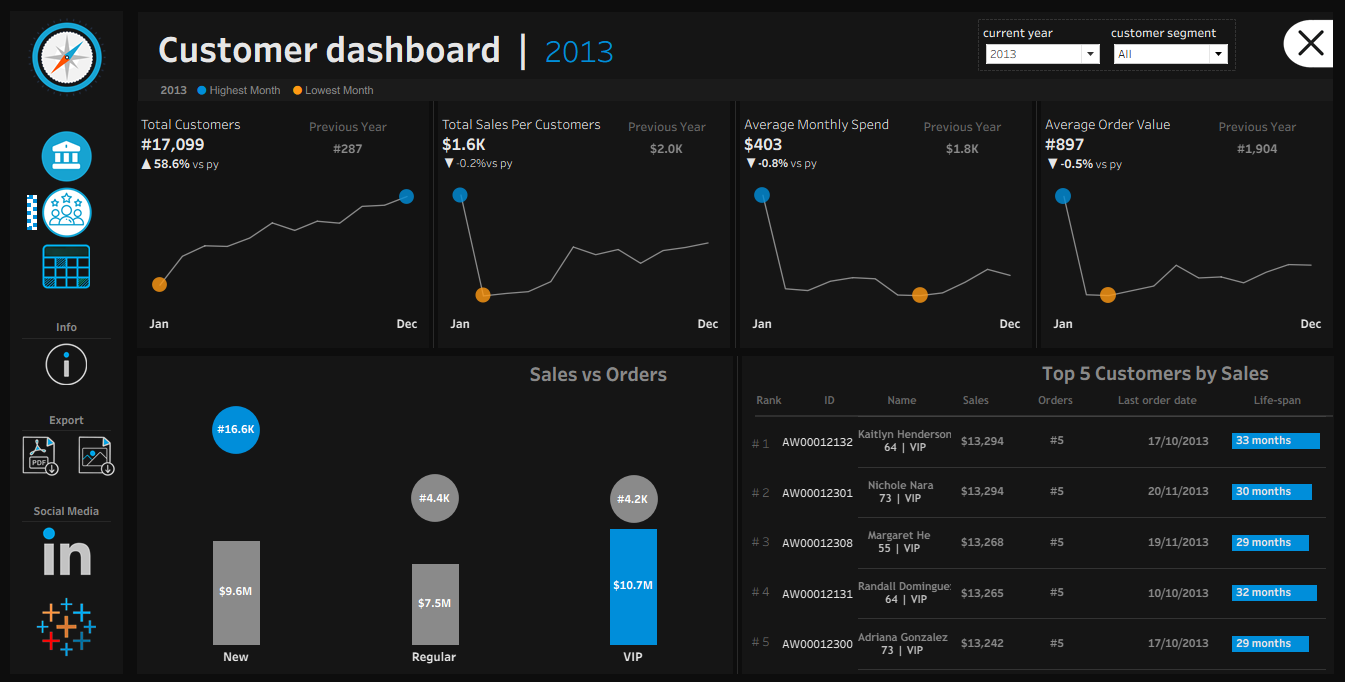

What the dashboard file says about the page in this screenshot:
{"tool":"tableau","page":{"name":"customer summary","canvas":[1350,685],"ordinal":0},"visuals":[{"type":"blank","box":[107,0,1244,157]},{"type":"blank","box":[125,0,1225,13]},{"type":"blank","box":[12,12,113,5]},{"type":"text","box":[125,13,1225,71]},{"type":"image","param":"Image/Icon - Logo.png","box":[12,17,113,81.8]},{"type":"dashboard-object","box":[1280,19,60,50]},{"type":"parameter","param":"[Parameters].[Parameter 1]","box":[981,21,128,50]},{"type":"parameter","param":"[Parameters].[Customer Segment Parameter]","box":[1109,21,128,50]},{"type":"text","box":[140,80,1195,22]},{"type":"blank","box":[125,84,1225,1]},{"type":"worksheet","title":"KPI customers","mark":"Automatic","rows":["cy quantity (dynamic) (copy)_517913967324033143","Calculation_517913965871296530"],"cols":["last_order_date"],"box":[139,87,292.5,270]},{"type":"blank","box":[431.5,87,9,270]},{"type":"worksheet","title":"KPI sales per customer","mark":"Line","rows":["cy SPC. (dynamic filter)  (copy)_105553128141946883","Calculation_517913965888249883"],"cols":["last_order_date"],"box":[440.5,87,292.5,270]},{"type":"blank","box":[733,87,9,270]},{"type":"worksheet","title":"KPI avg monthly spend","mark":"Automatic","rows":["Calculation_105553128154238984","Calculation_517913966227157032"],"cols":["last_order_date"],"box":[742,87,292.5,270]},{"type":"blank","box":[1034.5,87,9,270]},{"type":"worksheet","title":"KPI avg order value","mark":"Automatic","rows":["cy AVO. (fixed filter)  (copy)_105553128158134283","Calculation_517913966255546420"],"cols":["last_order_date"],"box":[1043.5,87,292.5,270]},{"type":"blank","box":[12,98.8,113,30]},{"type":"text","box":[274,117,152,20]},{"type":"text","box":[602,117,134,20]},{"type":"text","box":[894,117,141,20]},{"type":"text","box":[1187,117,145,20]},{"type":"dashboard-object","box":[12,128.8,113,56]},{"type":"worksheet","title":"ban py customers","mark":"Automatic","box":[274,137,152,25]},{"type":"worksheet","title":"ban py sales per customer","mark":"Automatic","box":[602,137,134,25]},{"type":"worksheet","title":"ban py avg monthly spend","mark":"Automatic","box":[894,137,141,25]},{"type":"worksheet","title":"ban py avg order value","mark":"Automatic","box":[1187,137,145,25]},{"type":"text","box":[107,157,1244,371]},{"type":"dashboard-object","box":[12,184.8,113,56]},{"type":"blank","box":[29,196,10,35]},{"type":"dashboard-object","box":[12,240.8,113,50]},{"type":"blank","box":[12,290.8,113,25]},{"type":"text","box":[12,315.8,113,23]},{"type":"blank","box":[12,338.8,113,1]},{"type":"dashboard-object","box":[12,339.8,113,46]},{"type":"worksheet","title":"sales vs orders by cust. segment","mark":"Bar","rows":["Calculation_517913967278891112","Calculation_517913967263117413"],"cols":["customer_segment"],"box":[139,357,596,318]},{"type":"blank","box":[735,357,9,318]},{"type":"worksheet","title":"customer details","mark":"Shape","rows":["Calculation_764204574733852674"],"cols":["Calculation_517913966377095226","Calculation_517913966378274876","Calculation_517913966378778686","Calculation_517913966381387840","lifespan"],"box":[744,357,592,318]},{"type":"text","box":[1008,358,299,30]},{"type":"text","box":[495,359,211,30]},{"type":"blank","box":[12,385.8,113,25]},{"type":"text","box":[750,386,42,30]},{"type":"text","box":[792,386,79,30]},{"type":"text","box":[871,386,66,30]},{"type":"text","box":[937,386,82,30]},{"type":"text","box":[1019,386,77,30]},{"type":"text","box":[1096,386,127,30]},{"type":"text","box":[1223,386,113,30]},{"type":"text","box":[12,410.8,113,20]},{"type":"blank","box":[757,416,578,2]},{"type":"blank","box":[747,417,48,15]},{"type":"blank","box":[12,430.8,113,1]},{"type":"text","box":[747,432,48,25]},{"type":"dashboard-object","box":[12,436,57,41]},{"type":"dashboard-object","box":[69,436,56,41]},{"type":"blank","box":[747,457,48,25.5]},{"type":"blank","box":[12,476.8,113,25]},{"type":"text","box":[747,482.5,48,23]},{"type":"text","box":[12,501.8,113,20]},{"type":"blank","box":[747,505.5,48,25.5]},{"type":"blank","box":[12,521.8,113,1]},{"type":"image","param":"Image/contact-linkedin baraa.png","box":[12,522.8,113,55]},{"type":"blank","box":[107,528,1244,157]},{"type":"text","box":[747,531,48,23]},{"type":"blank","box":[747,554,48,25.5]},{"type":"blank","box":[12,577.8,113,10]},{"type":"text","box":[747,579.5,48,25]},{"type":"blank","box":[12,587.8,113,10]},{"type":"image","param":"Image/contact-public baraa.png","box":[12,597.8,113,60]},{"type":"blank","box":[747,604.5,48,25.5]},{"type":"text","box":[747,630,48,25]},{"type":"blank","box":[747,655,48,15]},{"type":"blank","box":[12,657.8,113,17.2]}]}

Visuals, with their boxes on the page's 1350x685 design canvas (x1, y1, x2, y2). These are canvas units, not pixel positions in the 1345x682 screenshot, which may show the page scaled, cropped or inside an application window:
blank: crop(107, 0, 1351, 157)
blank: crop(125, 0, 1350, 13)
blank: crop(12, 12, 125, 17)
text: crop(125, 13, 1350, 84)
image: crop(12, 17, 125, 99)
dashboard-object: crop(1280, 19, 1340, 69)
parameter: crop(981, 21, 1109, 71)
parameter: crop(1109, 21, 1237, 71)
text: crop(140, 80, 1335, 102)
blank: crop(125, 84, 1350, 85)
"KPI customers" worksheet: crop(139, 87, 432, 357)
blank: crop(432, 87, 440, 357)
"KPI sales per customer" worksheet (Line marks): crop(440, 87, 733, 357)
blank: crop(733, 87, 742, 357)
"KPI avg monthly spend" worksheet: crop(742, 87, 1034, 357)
blank: crop(1034, 87, 1044, 357)
"KPI avg order value" worksheet: crop(1044, 87, 1336, 357)
blank: crop(12, 99, 125, 129)
text: crop(274, 117, 426, 137)
text: crop(602, 117, 736, 137)
text: crop(894, 117, 1035, 137)
text: crop(1187, 117, 1332, 137)
dashboard-object: crop(12, 129, 125, 185)
"ban py customers" worksheet: crop(274, 137, 426, 162)
"ban py sales per customer" worksheet: crop(602, 137, 736, 162)
"ban py avg monthly spend" worksheet: crop(894, 137, 1035, 162)
"ban py avg order value" worksheet: crop(1187, 137, 1332, 162)
text: crop(107, 157, 1351, 528)
dashboard-object: crop(12, 185, 125, 241)
blank: crop(29, 196, 39, 231)
dashboard-object: crop(12, 241, 125, 291)
blank: crop(12, 291, 125, 316)
text: crop(12, 316, 125, 339)
blank: crop(12, 339, 125, 340)
dashboard-object: crop(12, 340, 125, 386)
"sales vs orders by cust. segment" worksheet (Bar marks): crop(139, 357, 735, 675)
blank: crop(735, 357, 744, 675)
"customer details" worksheet (Shape marks): crop(744, 357, 1336, 675)
text: crop(1008, 358, 1307, 388)
text: crop(495, 359, 706, 389)
blank: crop(12, 386, 125, 411)
text: crop(750, 386, 792, 416)
text: crop(792, 386, 871, 416)
text: crop(871, 386, 937, 416)
text: crop(937, 386, 1019, 416)
text: crop(1019, 386, 1096, 416)
text: crop(1096, 386, 1223, 416)
text: crop(1223, 386, 1336, 416)
text: crop(12, 411, 125, 431)
blank: crop(757, 416, 1335, 418)
blank: crop(747, 417, 795, 432)
blank: crop(12, 431, 125, 432)
text: crop(747, 432, 795, 457)
dashboard-object: crop(12, 436, 69, 477)
dashboard-object: crop(69, 436, 125, 477)
blank: crop(747, 457, 795, 482)
blank: crop(12, 477, 125, 502)
text: crop(747, 482, 795, 506)
text: crop(12, 502, 125, 522)
blank: crop(747, 506, 795, 531)
blank: crop(12, 522, 125, 523)
image: crop(12, 523, 125, 578)
blank: crop(107, 528, 1351, 685)
text: crop(747, 531, 795, 554)
blank: crop(747, 554, 795, 580)
blank: crop(12, 578, 125, 588)
text: crop(747, 580, 795, 604)
blank: crop(12, 588, 125, 598)
image: crop(12, 598, 125, 658)
blank: crop(747, 604, 795, 630)
text: crop(747, 630, 795, 655)
blank: crop(747, 655, 795, 670)
blank: crop(12, 658, 125, 675)
